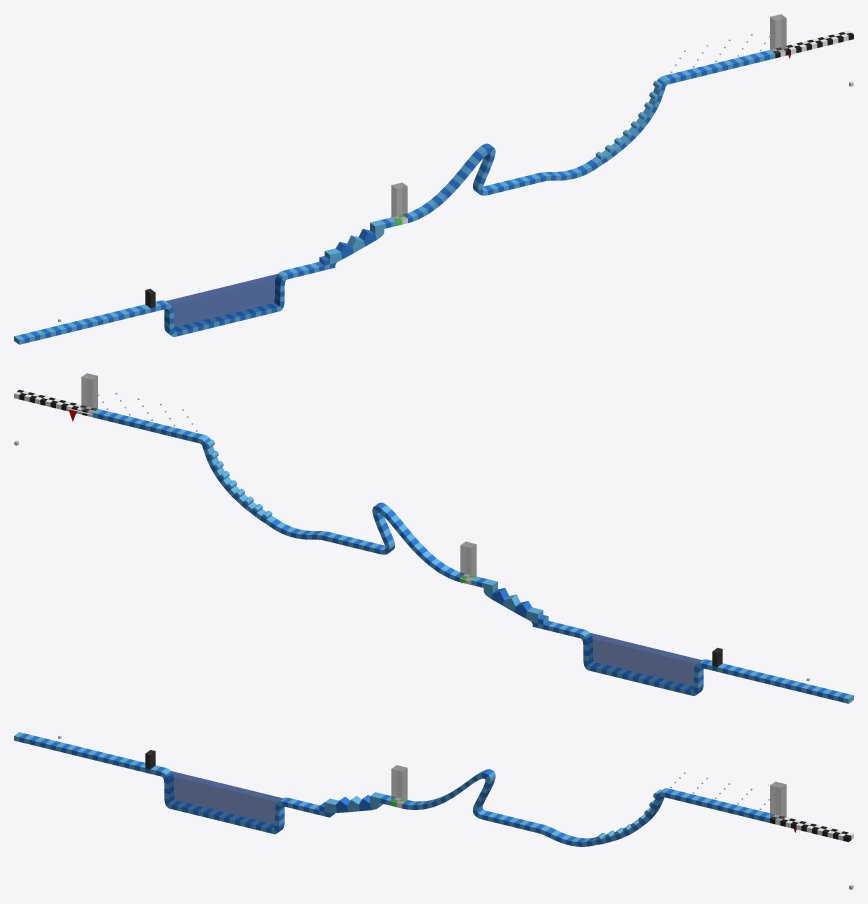
3 views of the same model, one above another, from view 1: azimuth 30°, elevation 25°; view 2: azimuth 150°, elevation 25°; view 3: azimuth 330°, elevation 25° (orthographic).
Visible parts, largest first — view 1: Floor, Water, Finish_Floor, Finish; view 2: Floor, Water, Finish_Floor, Finish; view 3: Floor, Water, Finish_Floor, Finish, Checkpoint.
Part boxes in pixels (x1,y1,x2,y2): Floor: (14, 50, 775, 344); Water: (166, 274, 282, 332); Finish_Floor: (770, 30, 853, 58); Finish: (770, 14, 786, 53); Floor: (92, 409, 853, 703); Water: (585, 633, 701, 691); Finish_Floor: (14, 389, 97, 417); Finish: (81, 373, 97, 412); Floor: (14, 732, 774, 846); Water: (166, 771, 282, 829); Finish_Floor: (770, 814, 853, 841); Finish: (770, 781, 786, 820); Checkpoint: (391, 765, 407, 803).
Size of what is drawn, in the model's own units: 159 by 30.91 by 1.93.
6 materials, 1 textured.
